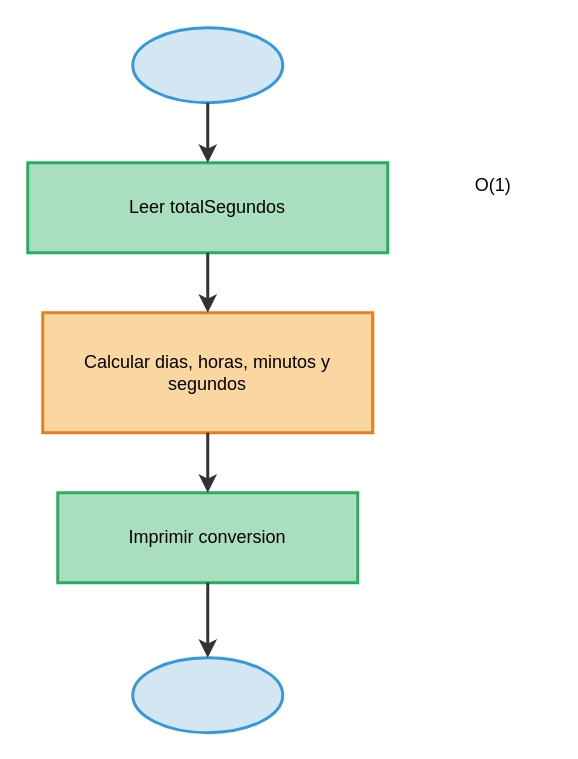
Some shapes in this 578 by 759 pixel diagram are drawn without their labels. The shapes that lost their labels are listed below. From the top down, each one's centre as x and y in pixels, then its label:
At point (207, 65): "INICIO".
At point (207, 695): "FIN".
